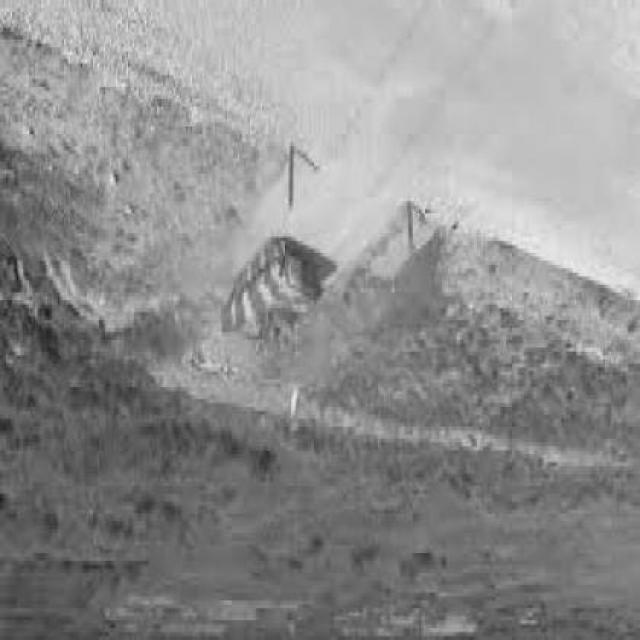tank: (221, 231, 325, 362)
